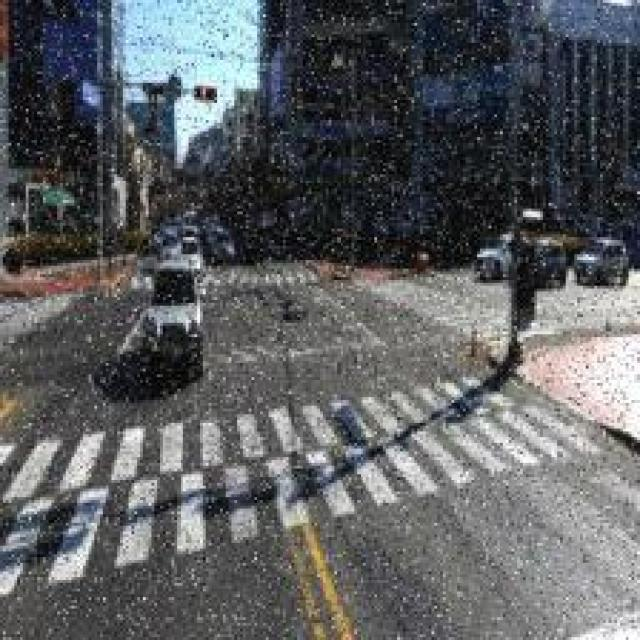crosswalk: (1, 370, 598, 605), (200, 260, 332, 290)
